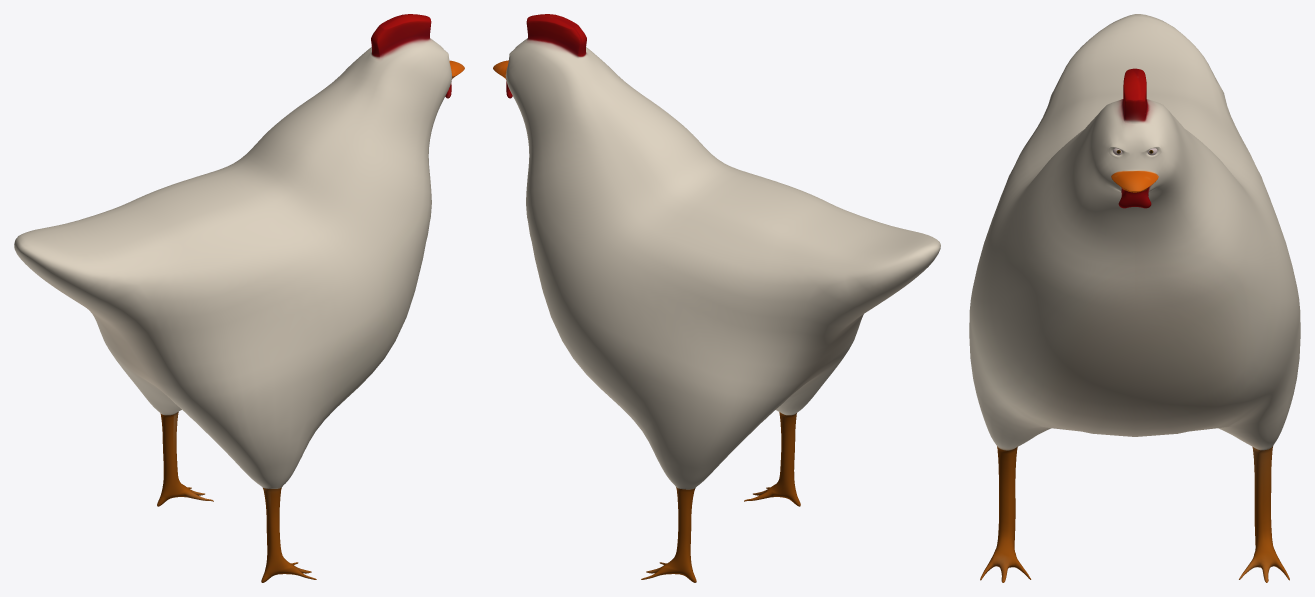
Rendered from CockTheCool_NoRig_NoAnim_LowPoly_Base.fbx.
The picture shows the model from 3 angles, left to right: view 1: azimuth 30°, elevation 25°; view 2: azimuth 150°, elevation 25°; view 3: azimuth 270°, elevation 25°; orthographic projection. The views are drawn at different scales.
Parts seen in each view (by area): view 1: CockFinalBody; view 2: CockFinalBody; view 3: CockFinalBody.
Boxes of the visible parts, left/top/right/bottom form: CockFinalBody: left=14, top=14, right=464, bottom=582; CockFinalBody: left=493, top=14, right=940, bottom=582; CockFinalBody: left=969, top=14, right=1300, bottom=582.
Bounding box in the file's own units: 192 × 199 × 100.
4 materials, 1 textured.
